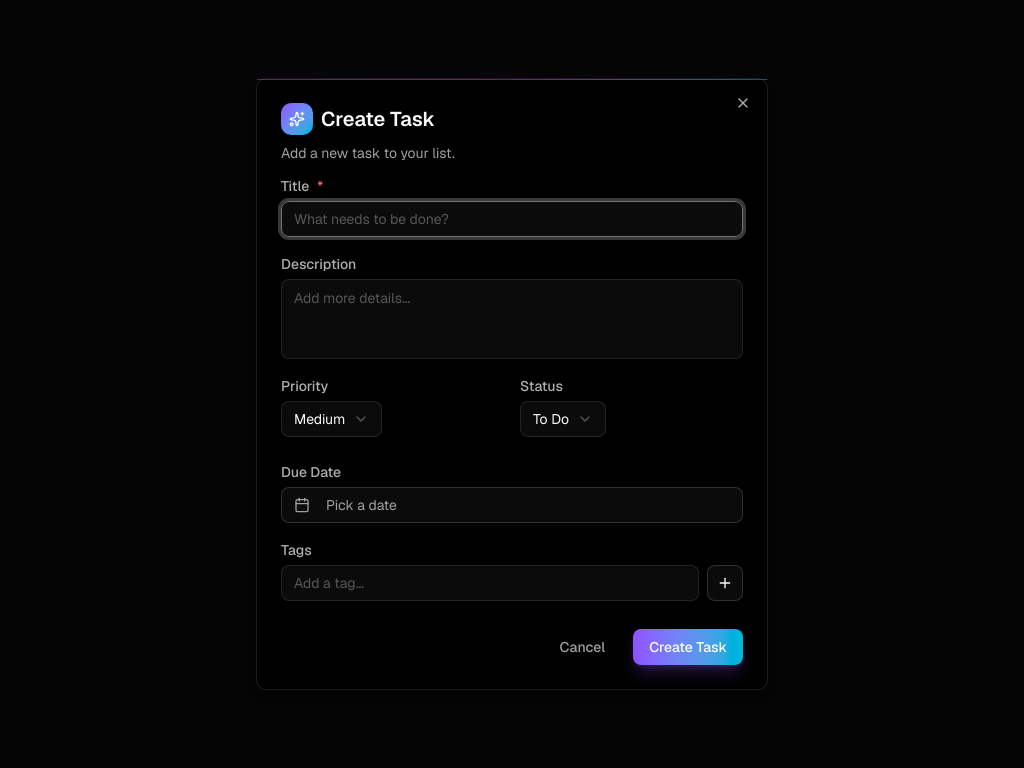
Test: TaskForm › Form Validation › shows validation error when title is empty on submit
The width and height of the screenshot is (1024, 768).
Click the button "Create Task" at x=688, y=647, box [633,629,743,665]
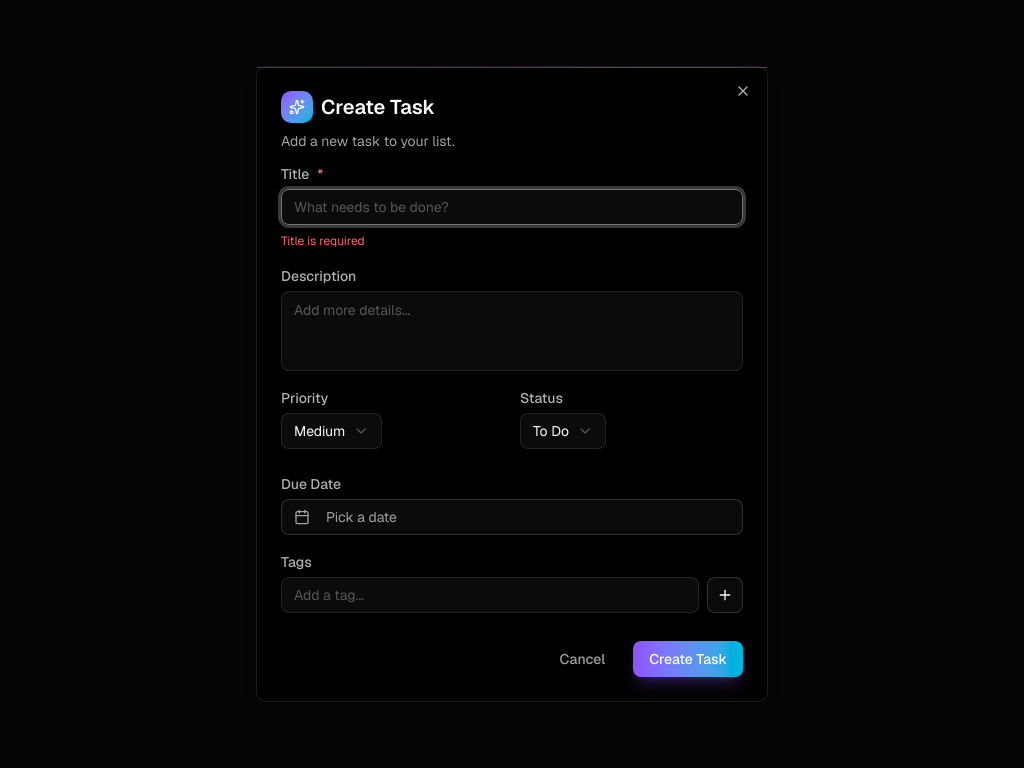
Expected: the text "Title is required" is shown, [281,233,365,249]
